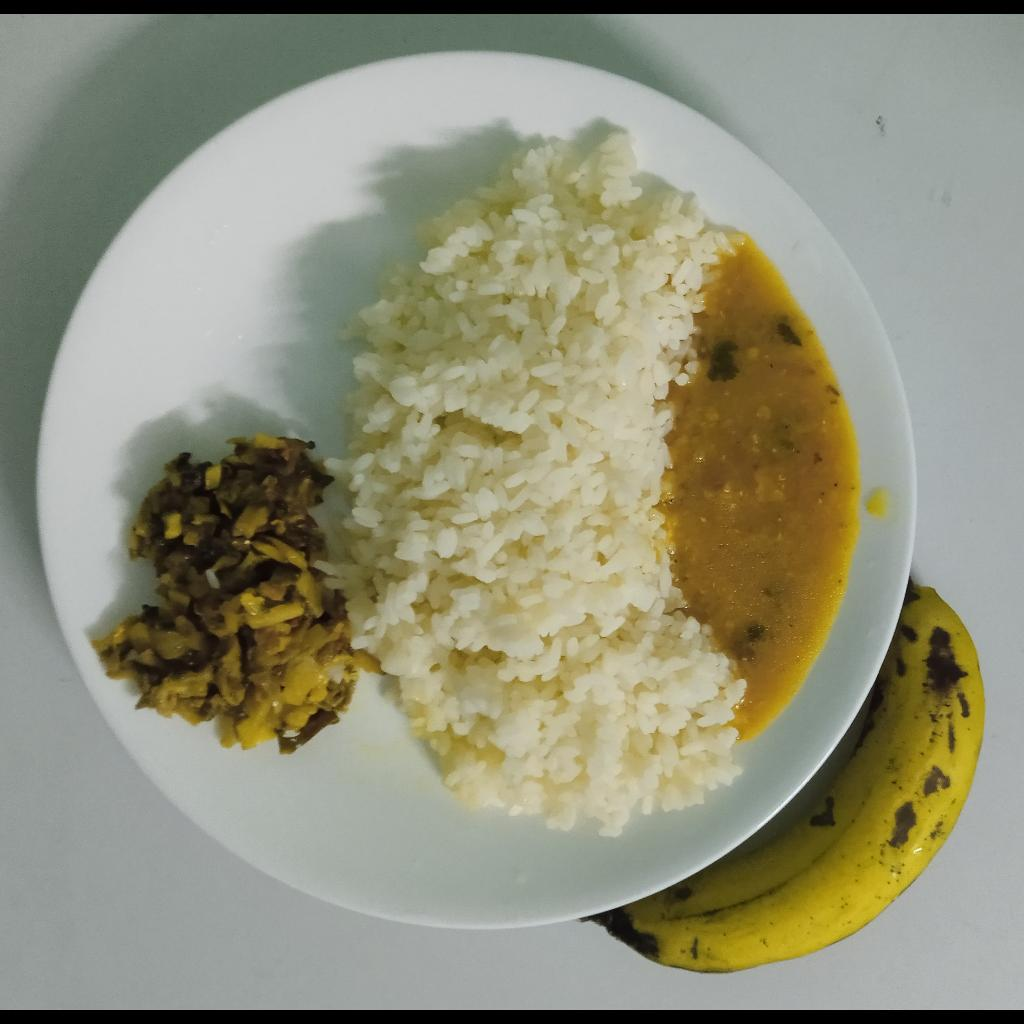banana: (578, 578, 988, 975)
daal: (667, 236, 860, 746)
rice: (327, 128, 738, 841)
vegetable: (90, 436, 358, 755)
